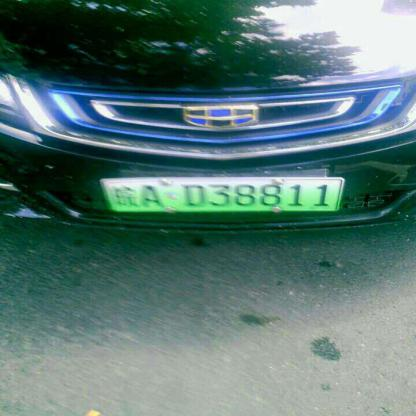lp: (106, 179, 341, 211)
